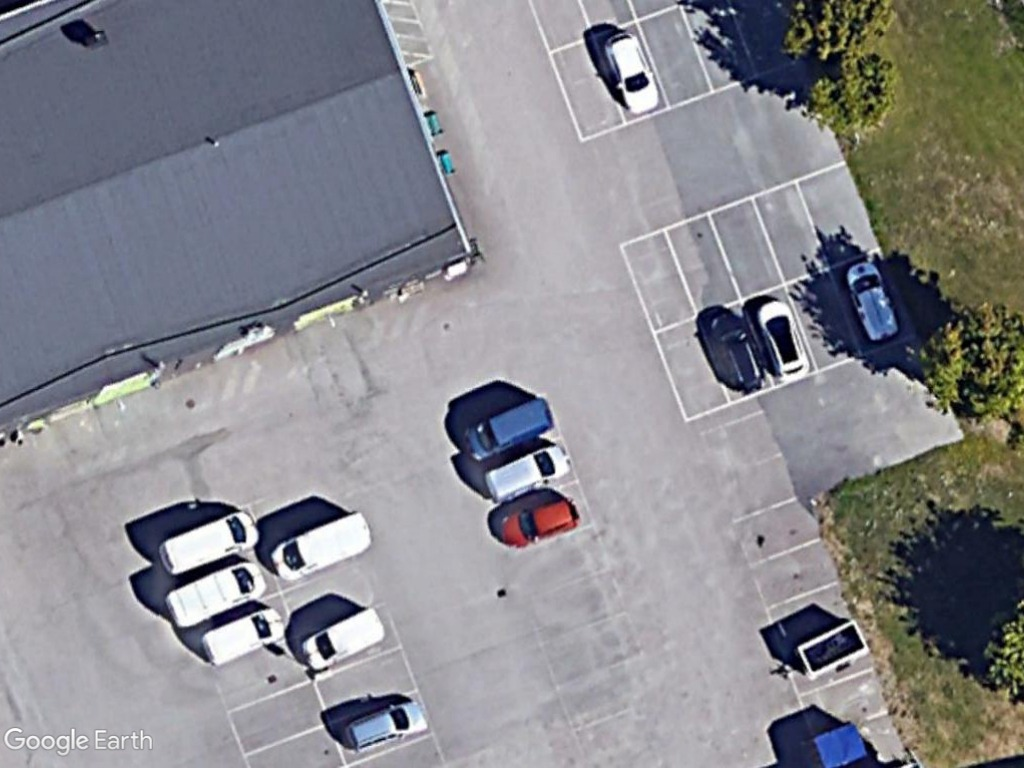car: (707, 307, 772, 398), (601, 30, 663, 118), (753, 294, 812, 384), (841, 258, 902, 345), (342, 696, 432, 754), (498, 495, 584, 552)
van: (270, 506, 379, 584), (153, 506, 266, 580), (163, 556, 270, 630), (459, 394, 560, 464), (298, 602, 392, 673), (198, 604, 290, 670), (483, 441, 573, 503)
